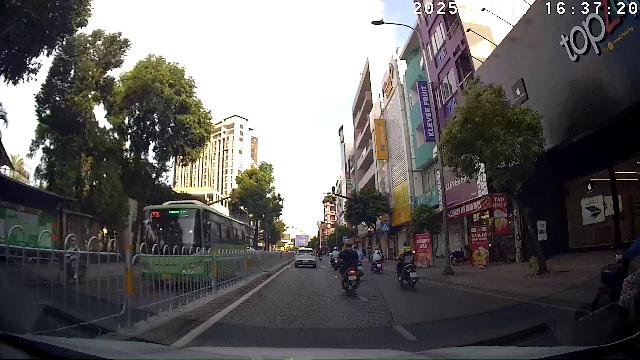423a-duong-nguoi-di-bo-sang-ngang-1: (380, 223, 390, 232)
